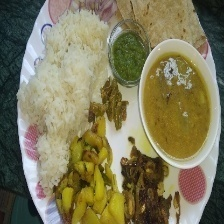roti: (112, 0, 211, 56)
